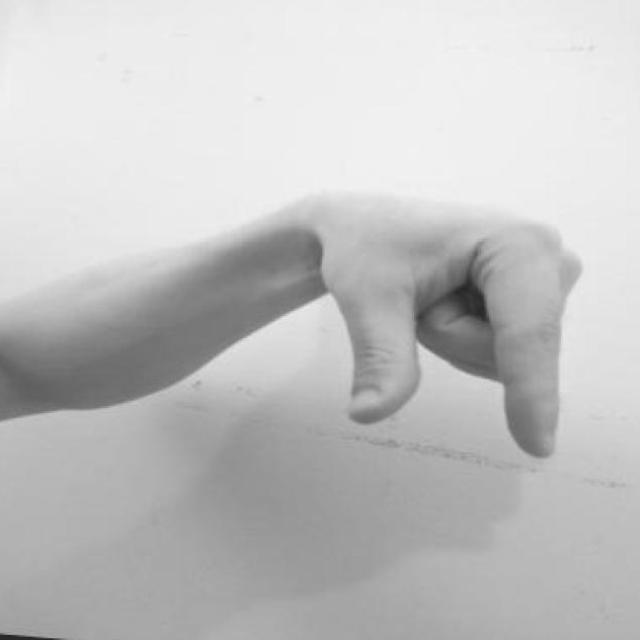Q: (282, 176, 610, 474)
